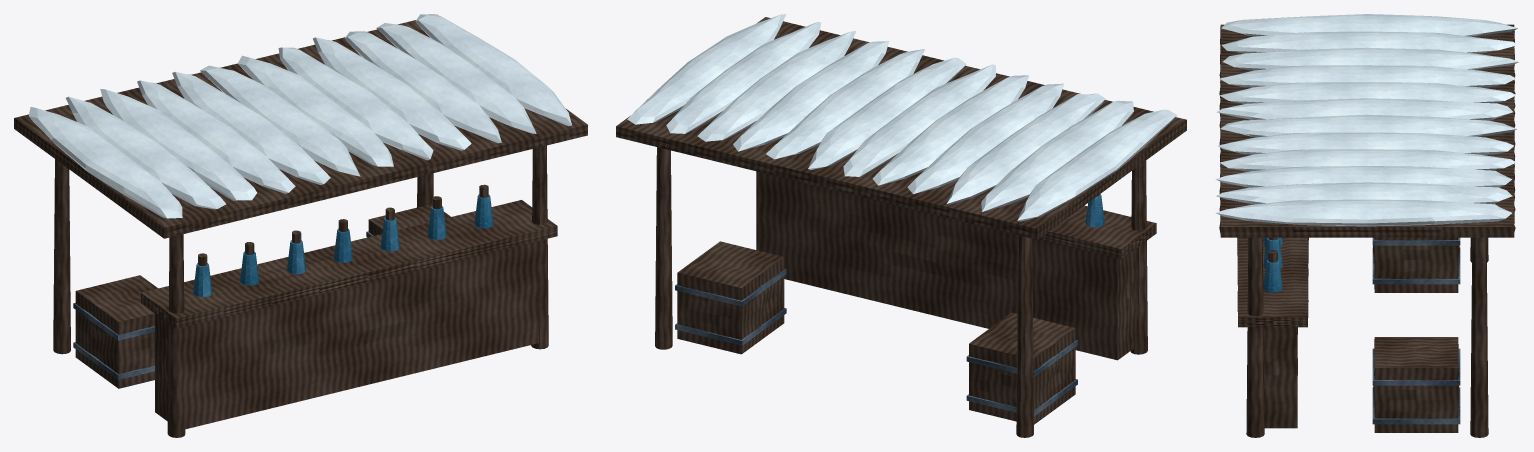
Rendered from WinterMerchantStall.fbx.
3 renders of one model, left to right at view 1: azimuth 30°, elevation 25°; view 2: azimuth 150°, elevation 25°; view 3: azimuth 270°, elevation 25°, orthographic. The views are drawn at different scales.
Parts seen in each view (by area): view 1: WO_WinterMerchantStall_LOD0; view 2: WO_WinterMerchantStall_LOD0; view 3: WO_WinterMerchantStall_LOD0.
Boxes of the visible parts, bbox=[...] form: WO_WinterMerchantStall_LOD0: bbox=[14, 14, 587, 437]; WO_WinterMerchantStall_LOD0: bbox=[616, 14, 1186, 437]; WO_WinterMerchantStall_LOD0: bbox=[1215, 14, 1519, 437].
Size of what is drawn, in the model's own units: 8 by 4.3 by 5.
